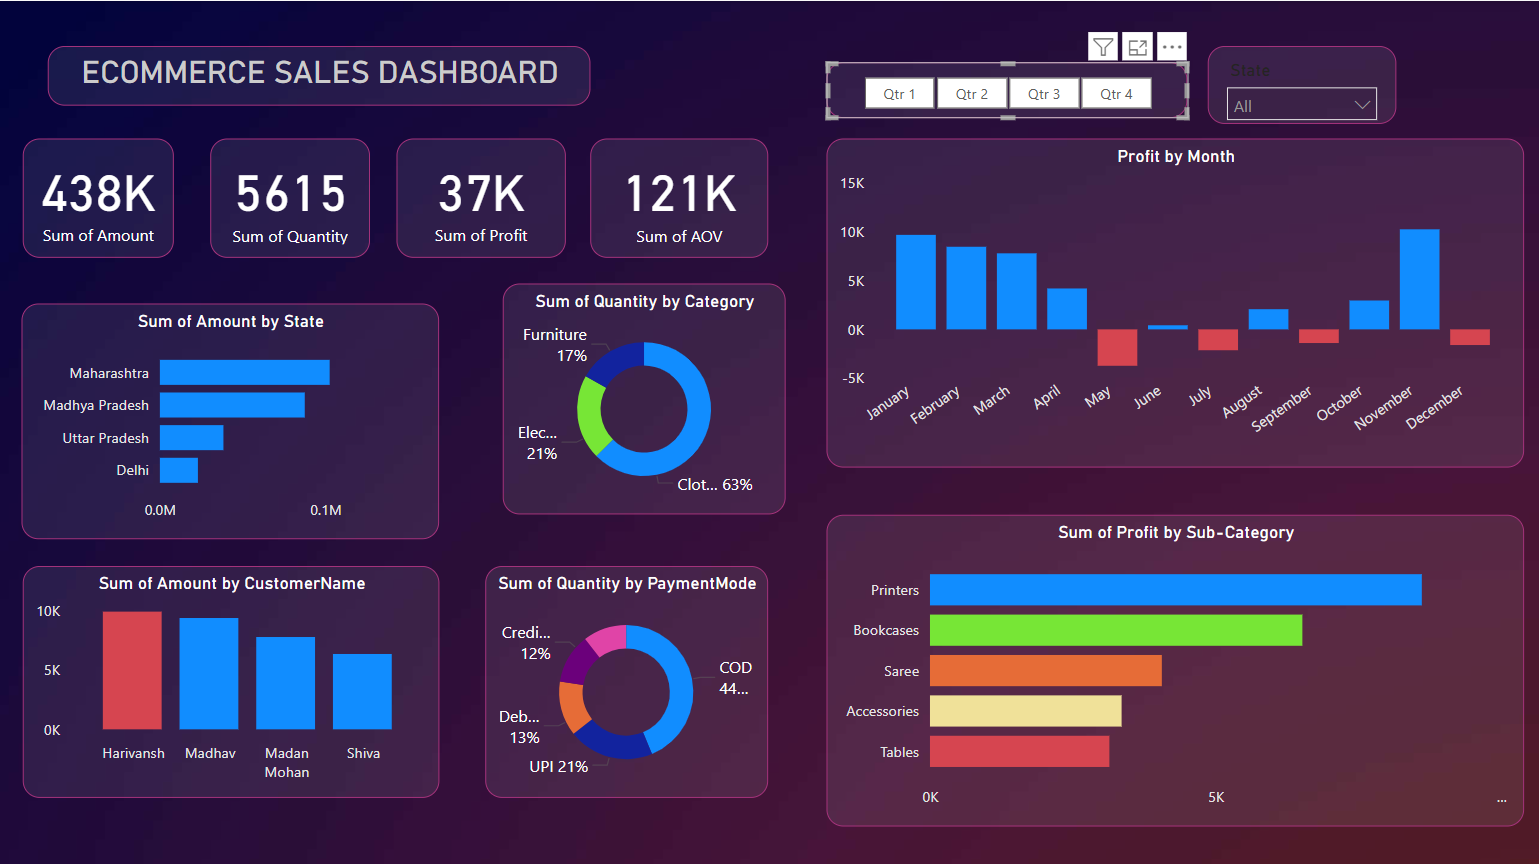

The dashboard page shown, as its layout file describes it:
{"tool":"powerbi","page":{"name":"Page 1","canvas":[1280,720],"ordinal":0},"visuals":[{"type":"columnChart","title":" Profit by Month","fields":{"Category":["Orders.Order Date.Variation.Date Hierarchy.Month"],"Y":["Sum(Details.Profit)"]},"box":[688.4,114,580.2,273.3],"z":0},{"type":"barChart","fields":{"Category":["Details.Sub-Category"],"Y":["Sum(Details.Profit)"]},"box":[688.4,426.7,580.2,259.3],"z":1000},{"type":"donutChart","fields":{"Category":["Details.Category"],"Y":["Sum(Details.Quantity)"]},"box":[418.6,234.9,234.9,191.9],"z":2000},{"type":"donutChart","fields":{"Y":["Sum(Details.Quantity)"],"Category":["Details.PaymentMode"]},"box":[404.7,469.8,234.9,193],"z":3000},{"type":"card","fields":{"Values":["Sum(Details.Amount)"]},"box":[19.8,114,125.6,98.8],"z":4000},{"type":"card","fields":{"Values":["Sum(Details.Quantity)"]},"box":[175.6,114,132.6,98.8],"z":5000},{"type":"card","fields":{"Values":["Sum(Details.Profit)"]},"box":[330.2,114,140.7,98.8],"z":6000},{"type":"card","fields":{"Values":["Sum(Details.AOV)"]},"box":[491.9,114,147.7,98.8],"z":7000},{"type":"barChart","fields":{"Category":["Orders.State"],"Y":["Sum(Details.Amount)"]},"box":[18.8,251,346.9,195.8],"z":8000},{"type":"columnChart","fields":{"Category":["Orders.CustomerName"],"Y":["Sum(Details.Amount)"]},"box":[19.8,469.8,346.5,193],"z":9000},{"type":"textbox","title":"ECOMMERCE SALES DASHBOARD","box":[40.5,37.4,451,49.9],"z":10000},{"type":"slicer","fields":{"Values":["Orders.Order Date.Variation.Date Hierarchy.Quarter"]},"box":[688.4,51.2,300,46.5],"z":11000},{"type":"slicer","fields":{"Values":["Orders.State"]},"box":[1005,37.4,156.9,64.4],"z":12000}]}

Visuals, with their boxes in screenshot pixels (x1, y1, x2, y2), scaled from the page's 1280x720 canvas onto the 1539x864 screenshot:
" Profit by Month" columnChart: crop(828, 137, 1525, 465)
barChart - Details.Sub-Category x Sum(Details.Profit): crop(828, 512, 1525, 823)
donutChart - Details.Category x Sum(Details.Quantity): crop(503, 282, 786, 512)
donutChart - Sum(Details.Quantity) x Details.PaymentMode: crop(487, 564, 769, 795)
card - Sum(Details.Amount): crop(24, 137, 175, 255)
card - Sum(Details.Quantity): crop(211, 137, 371, 255)
card - Sum(Details.Profit): crop(397, 137, 566, 255)
card - Sum(Details.AOV): crop(591, 137, 769, 255)
barChart - Orders.State x Sum(Details.Amount): crop(23, 301, 440, 536)
columnChart - Orders.CustomerName x Sum(Details.Amount): crop(24, 564, 440, 795)
"ECOMMERCE SALES DASHBOARD" textbox: crop(49, 45, 591, 105)
slicer - Orders.Order Date.Variation.Date Hierarchy.Quarter: crop(828, 61, 1188, 117)
slicer - Orders.State: crop(1208, 45, 1397, 122)
